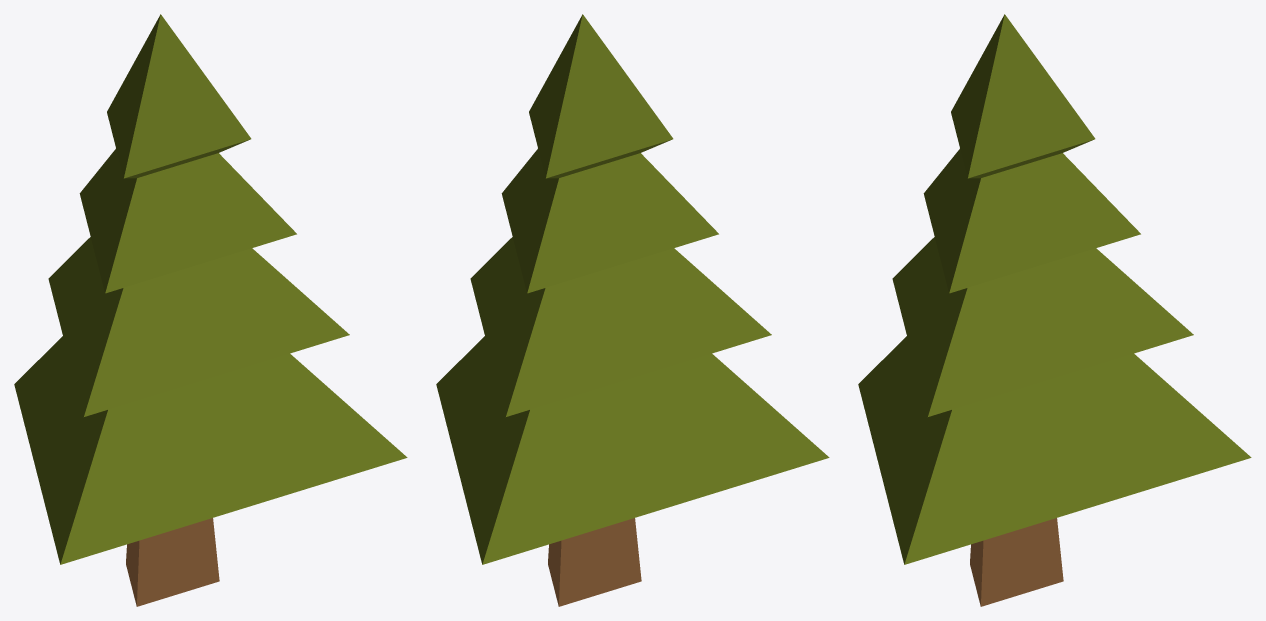
Rendered from Tree4.fbx.
3 renders of one model, left to right at view 1: azimuth 30°, elevation 25°; view 2: azimuth 150°, elevation 25°; view 3: azimuth 270°, elevation 25°, orthographic.
Visible parts, largest first — view 1: Tree4; view 2: Tree4; view 3: Tree4.
Boxes of the visible parts, x1,y1,x2,y2 form: Tree4: (14,14,407,606); Tree4: (436,14,829,606); Tree4: (858,14,1251,606).
Size of the model in its own units: 45.77 by 67.29 by 42.1.
